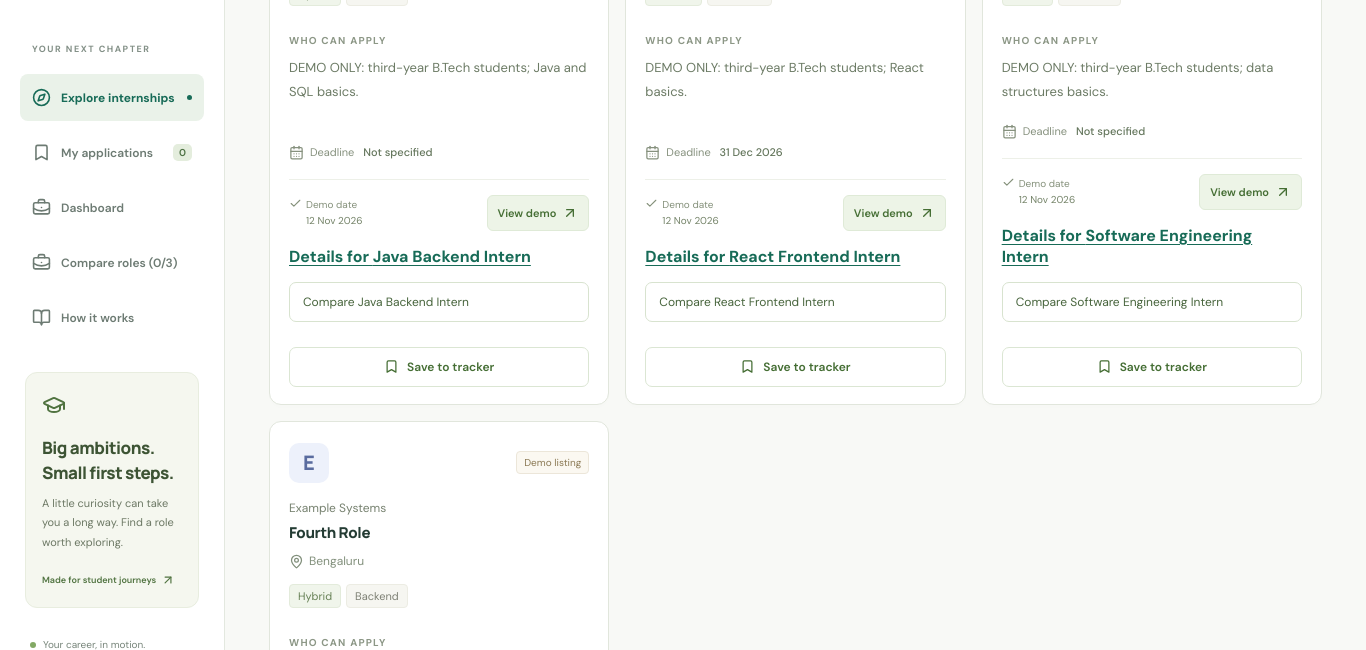
it: details and comparison integrated with the existing app › selects three roles, blocks a fourth, and updates comparison count after removal
(page scrolled)
Click the button "Compare Java Backend Intern".
click(439, 302)  # box [289, 282, 589, 322]
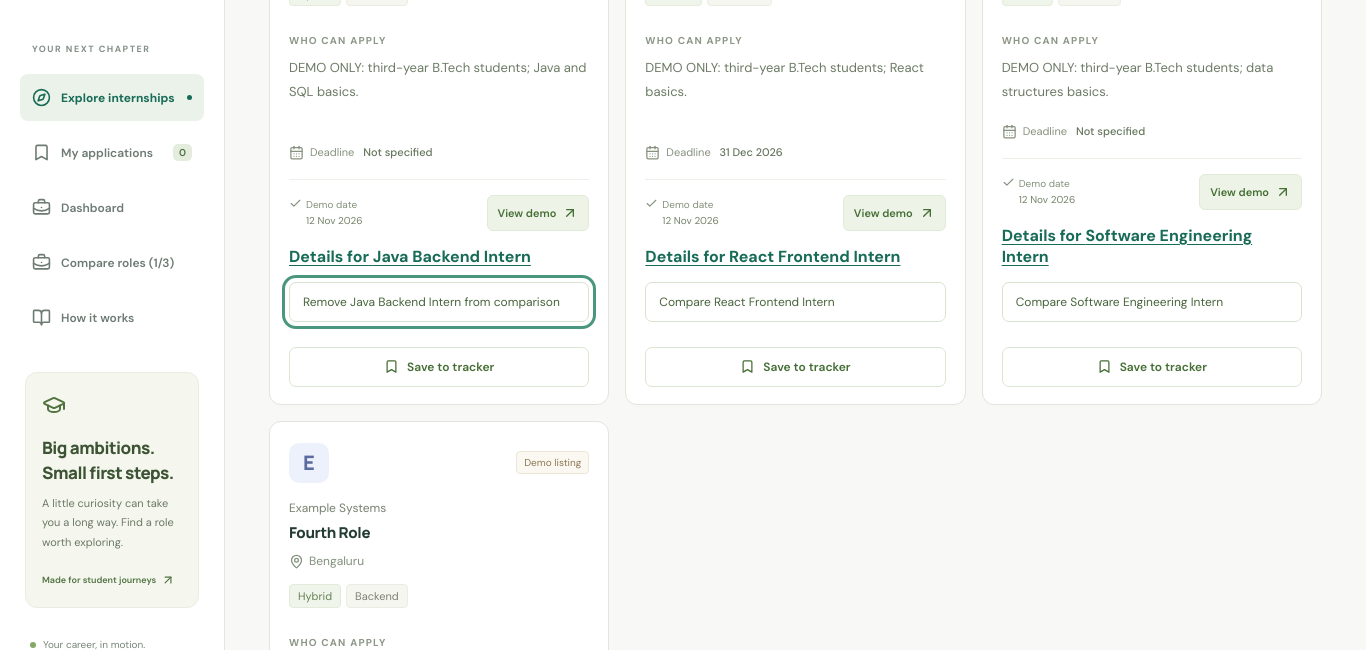
Click the button "Compare React Frontend Intern".
click(795, 302)  # box [645, 282, 946, 322]
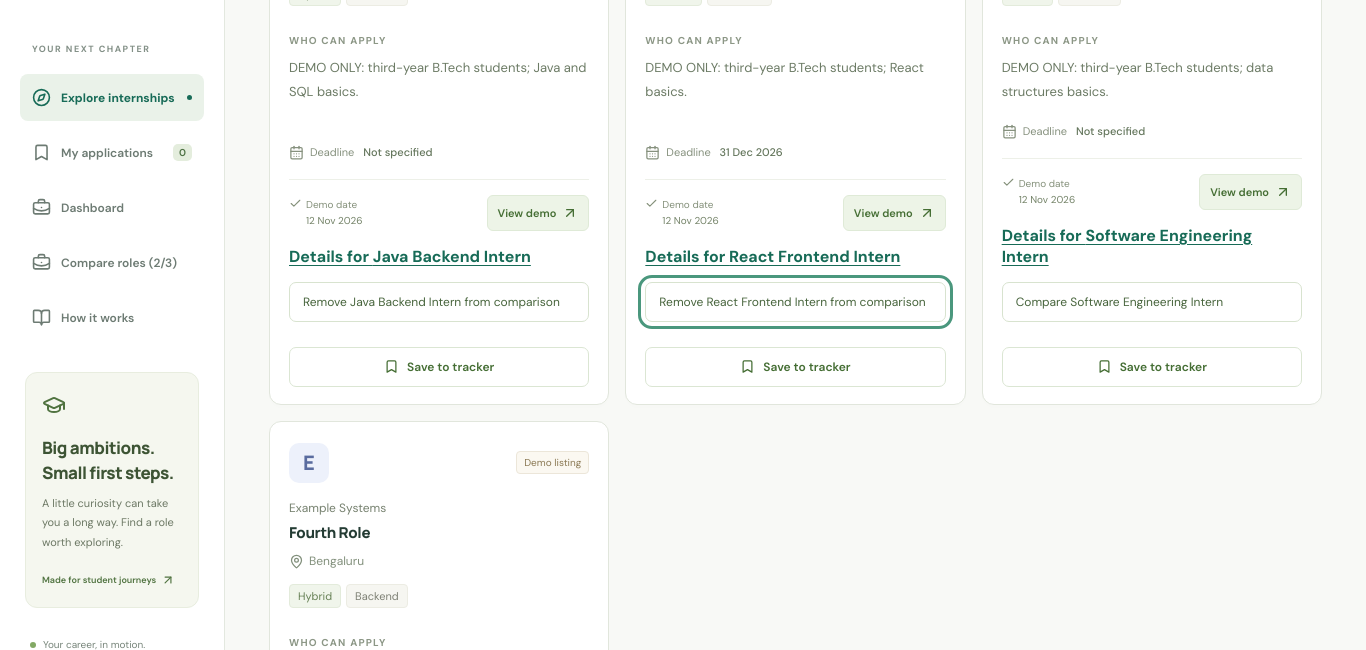
Click the button "Compare Software Engineering Intern".
click(1152, 302)  # box [1002, 282, 1302, 322]
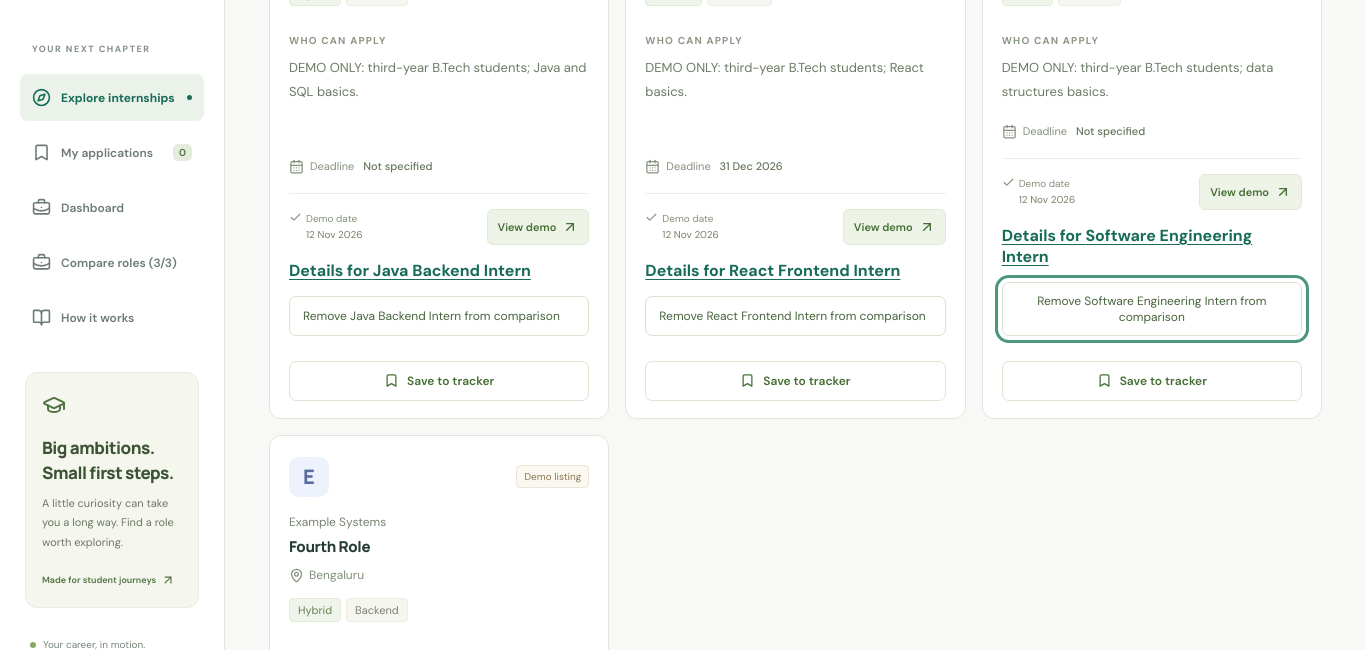
Click the button "Compare roles (3/3)".
click(112, 262)  # box [20, 239, 204, 286]
(page scrolled)
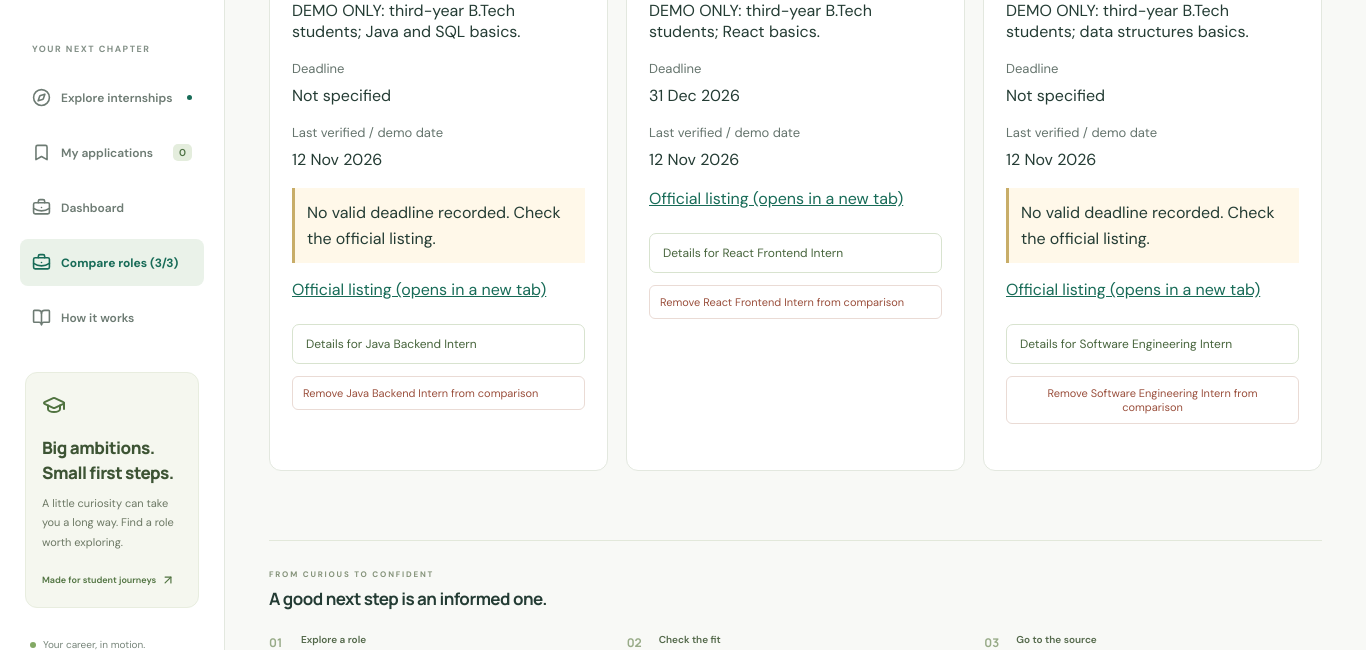
Click the button "Remove React Frontend Intern from comparison".
click(796, 302)  # box [649, 285, 942, 319]
(page scrolled)
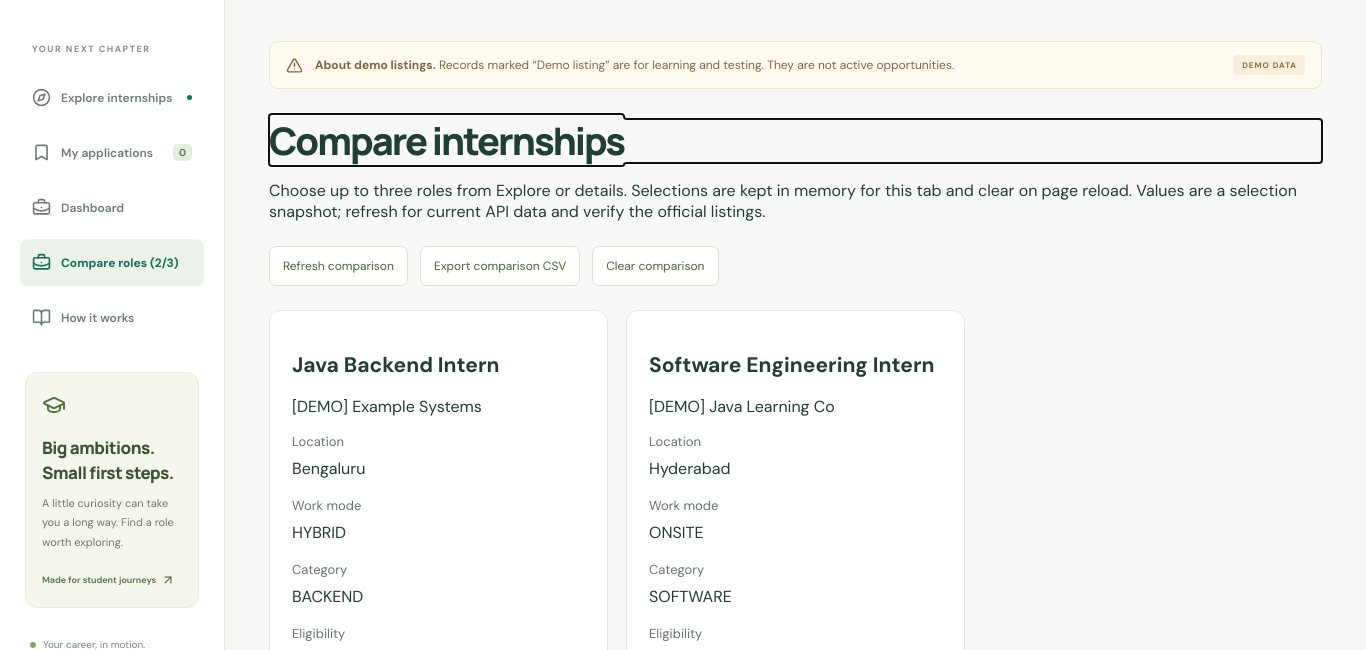
Expected: the button "Compare roles (2/3)" is shown, [20, 239, 204, 286]
